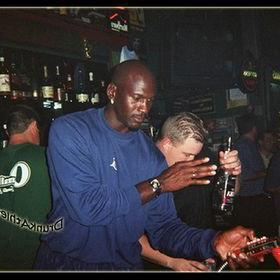Drunk: (120, 75, 152, 128)
